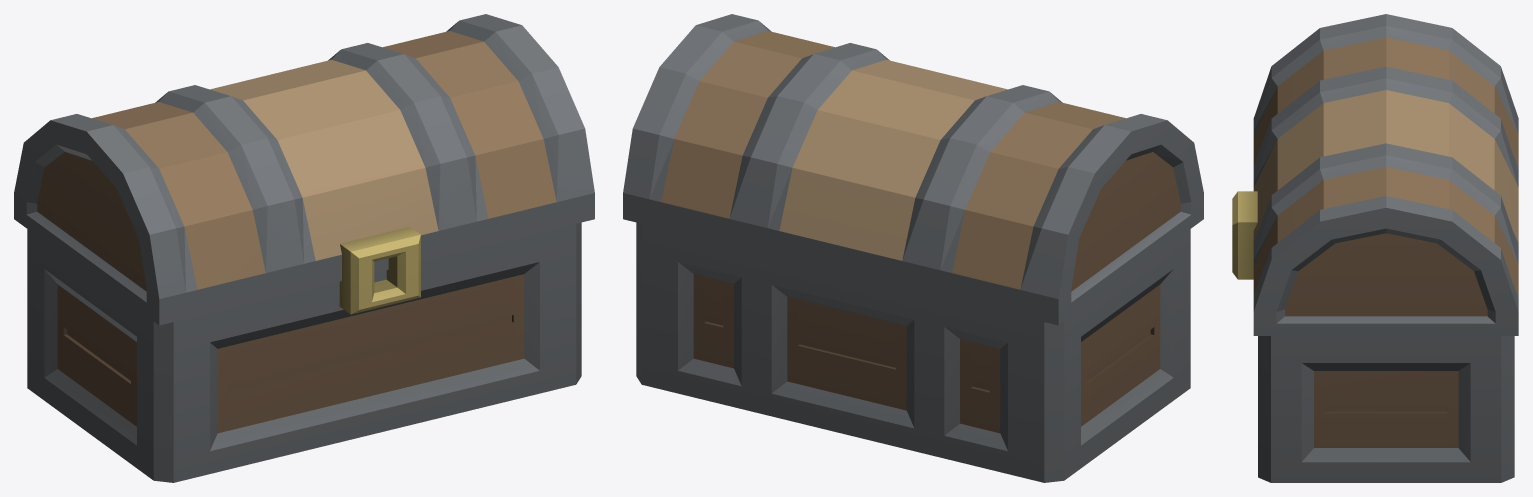
Rendered from chest.glb.
The picture shows the model from 3 angles, left to right: view 1: azimuth 30°, elevation 25°; view 2: azimuth 150°, elevation 25°; view 3: azimuth 270°, elevation 25°; orthographic projection. The views are drawn at different scales.
Visible parts, largest first — view 1: chest; view 2: chest; view 3: chest.
Boxes of the visible parts, x1,y1,x2,y2 form: chest: [14, 14, 594, 482]; chest: [623, 14, 1203, 482]; chest: [1232, 14, 1518, 482].
Bounding box in the file's own units: 0.9 × 0.6 × 0.562.
